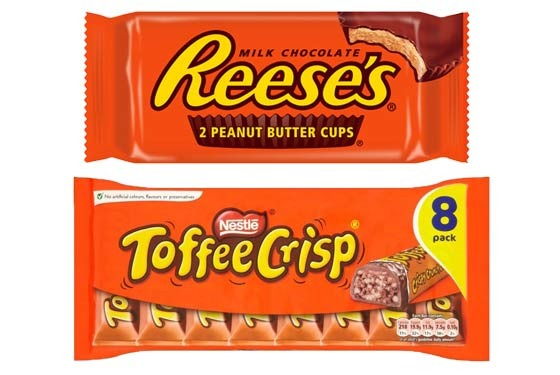reese: (79, 8, 472, 166)
